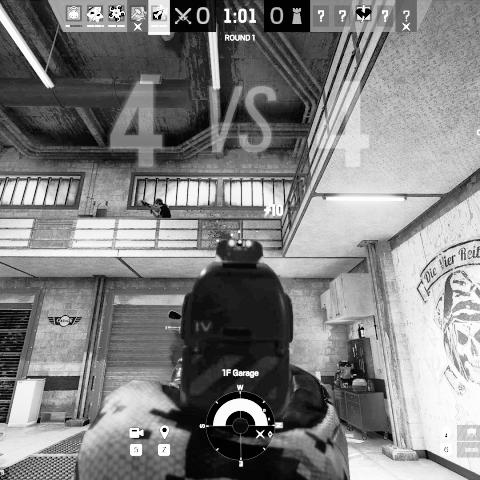Character: (140, 197, 172, 220)
Head: (155, 198, 164, 207)
